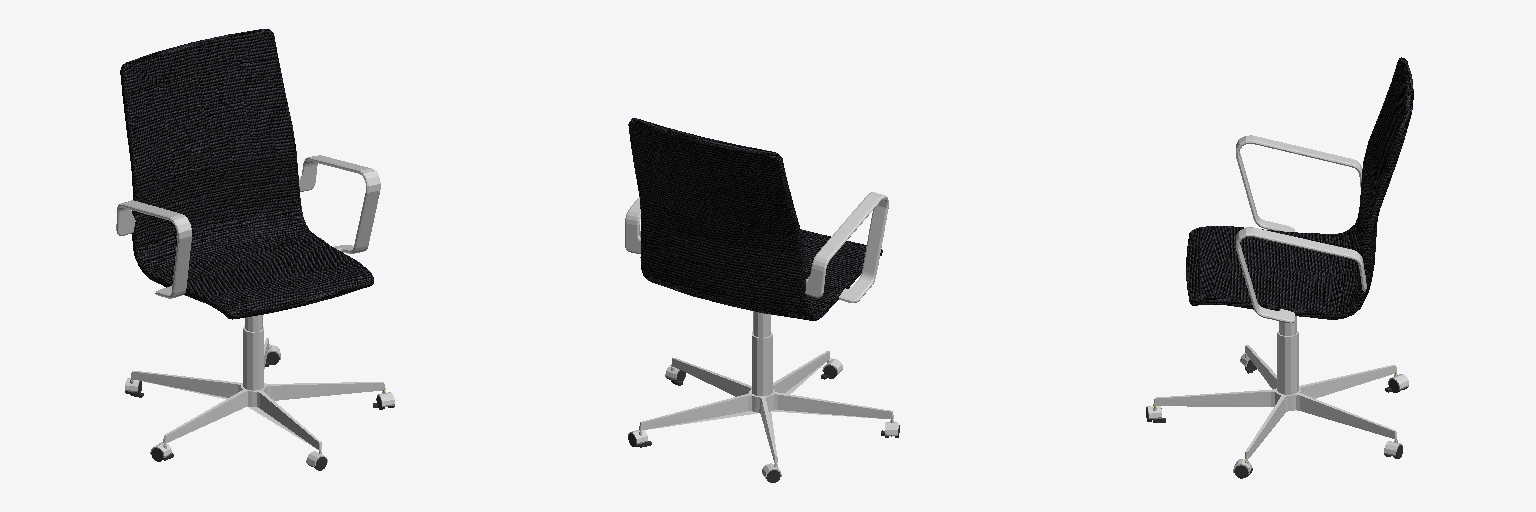
The picture shows the model from 3 angles: view 1: azimuth 30°, elevation 25°; view 2: azimuth 150°, elevation 25°; view 3: azimuth 270°, elevation 25°; orthographic projection.
Parts seen in each view (by area): view 1: Mesh15 Model, Mesh1 Model; view 2: Mesh15 Model, Mesh1 Model; view 3: Mesh15 Model, Mesh1 Model.
Part boxes in pixels (bbox=[...]): Mesh15 Model: bbox=[116, 29, 380, 319]; Mesh1 Model: bbox=[131, 315, 385, 450]; Mesh15 Model: bbox=[625, 118, 888, 320]; Mesh1 Model: bbox=[639, 311, 893, 463]; Mesh15 Model: bbox=[1186, 57, 1413, 322]; Mesh1 Model: bbox=[1153, 316, 1396, 459].
Size of the model in its own units: 0.6921 by 0.9291 by 0.6806.
6 materials, 1 textured.